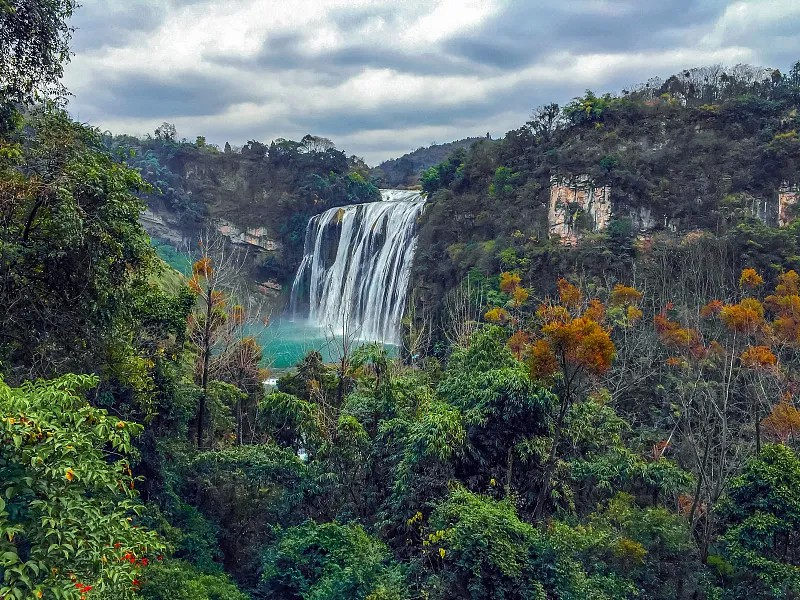Huangguoshu: (292, 188, 426, 346)
